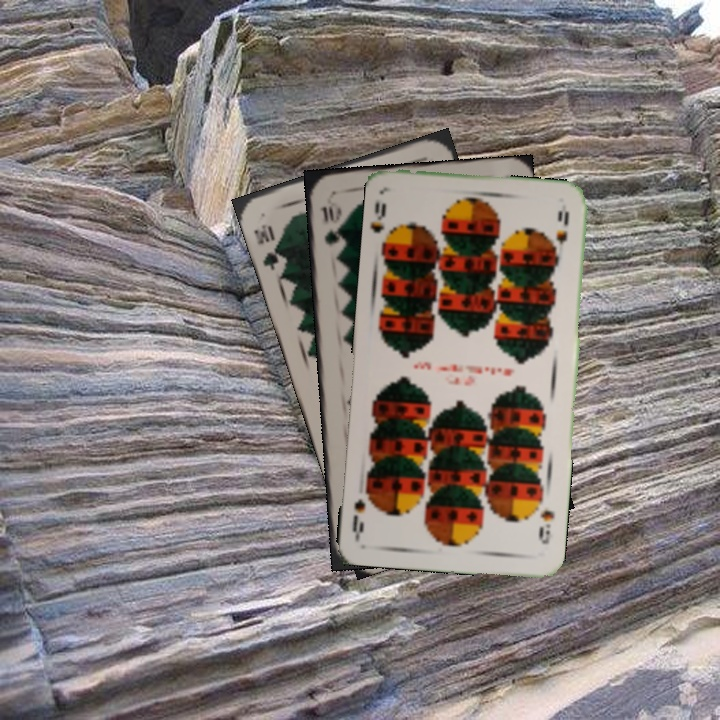G10: (249, 220, 286, 274), (318, 194, 343, 248)
S9: (535, 506, 557, 547), (369, 197, 389, 236)
